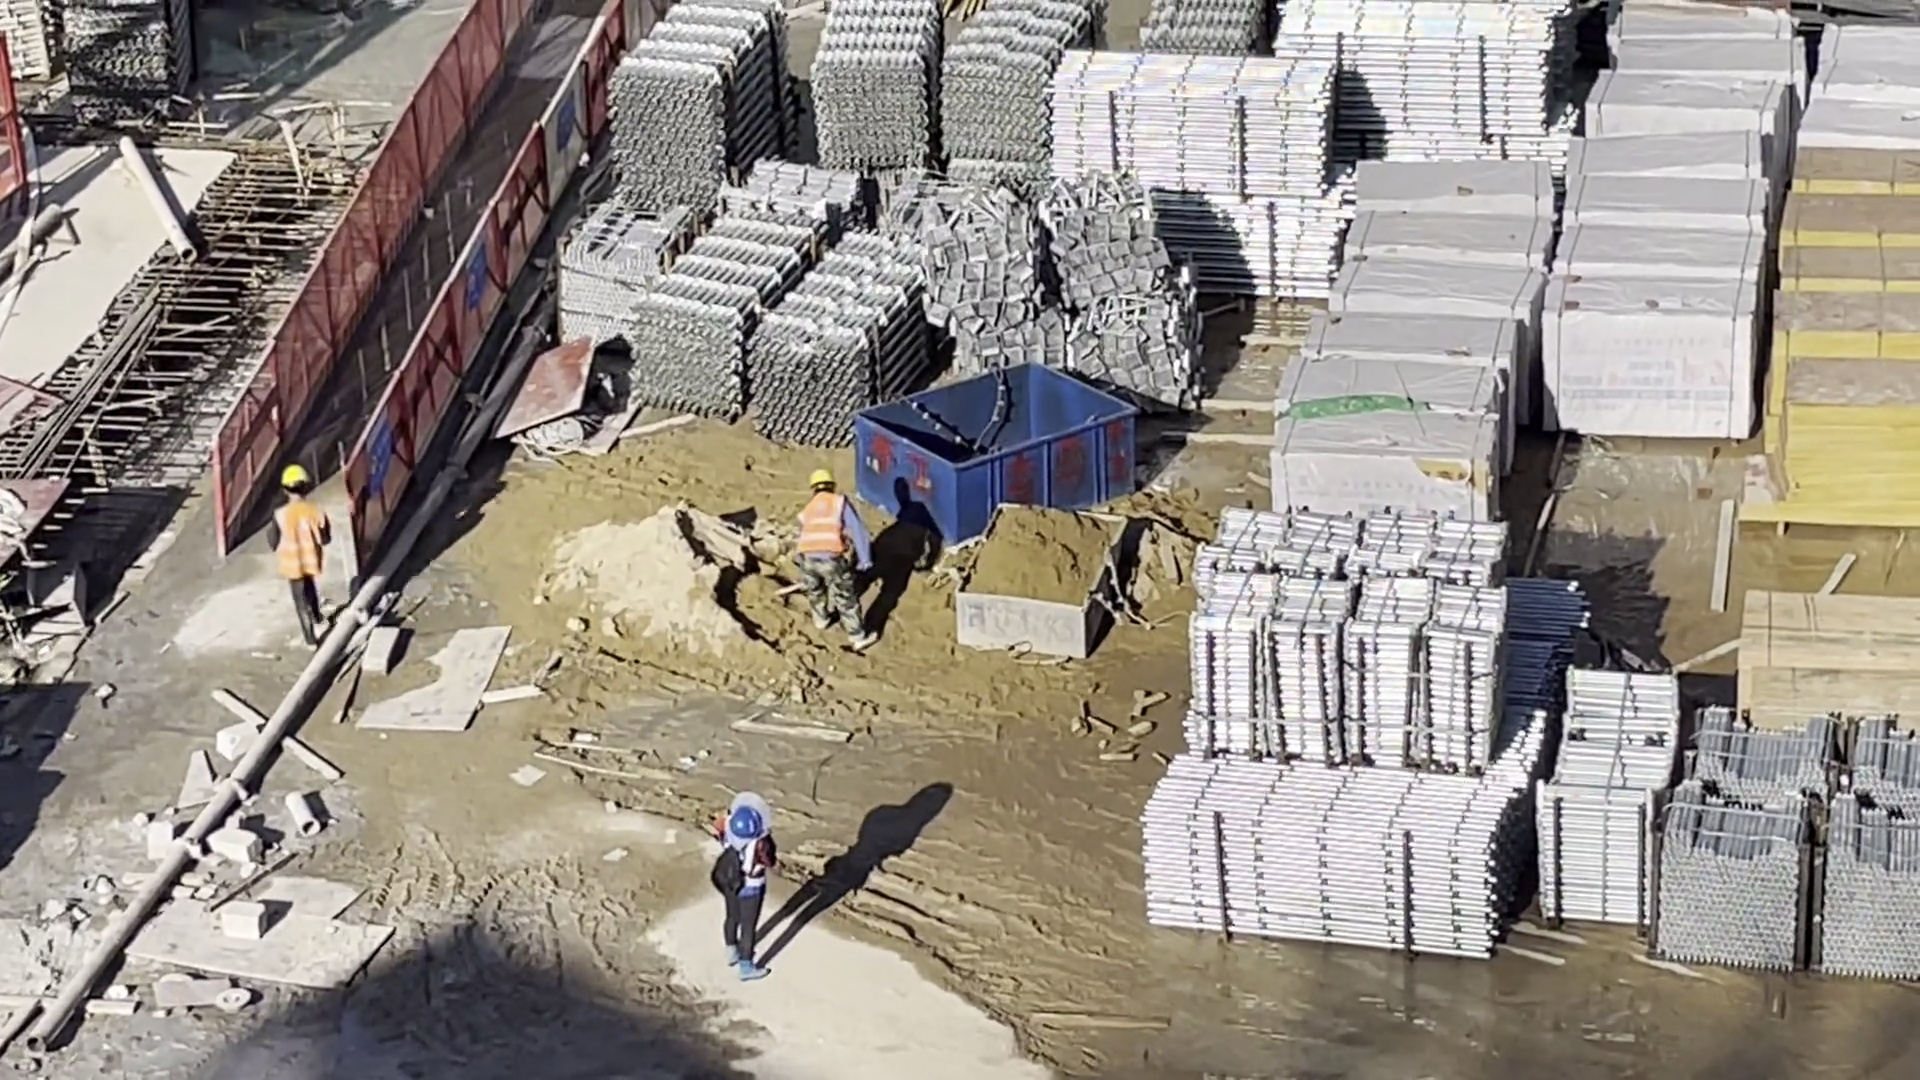board: (1765, 145, 1920, 519), (1738, 587, 1920, 716)
fence: (221, 8, 623, 519)
helmet: (732, 809, 761, 837), (807, 469, 837, 490), (281, 467, 308, 485)
hopper: (856, 361, 1132, 537), (956, 504, 1127, 658)
person: (798, 468, 871, 649), (274, 469, 335, 650), (716, 800, 775, 977)
scaffold: (1190, 510, 1504, 768), (1145, 753, 1518, 951), (1052, 56, 1338, 288), (1662, 715, 1920, 971), (639, 220, 921, 445), (808, 1, 1096, 168), (1273, 6, 1573, 158), (605, 4, 783, 207), (1544, 670, 1674, 919), (65, 1, 188, 129), (1138, 1, 1266, 62), (1, 1, 66, 89)
slogan: (363, 416, 390, 487), (465, 237, 488, 306)
vest: (273, 503, 324, 579), (796, 493, 850, 560), (735, 845, 765, 906)
